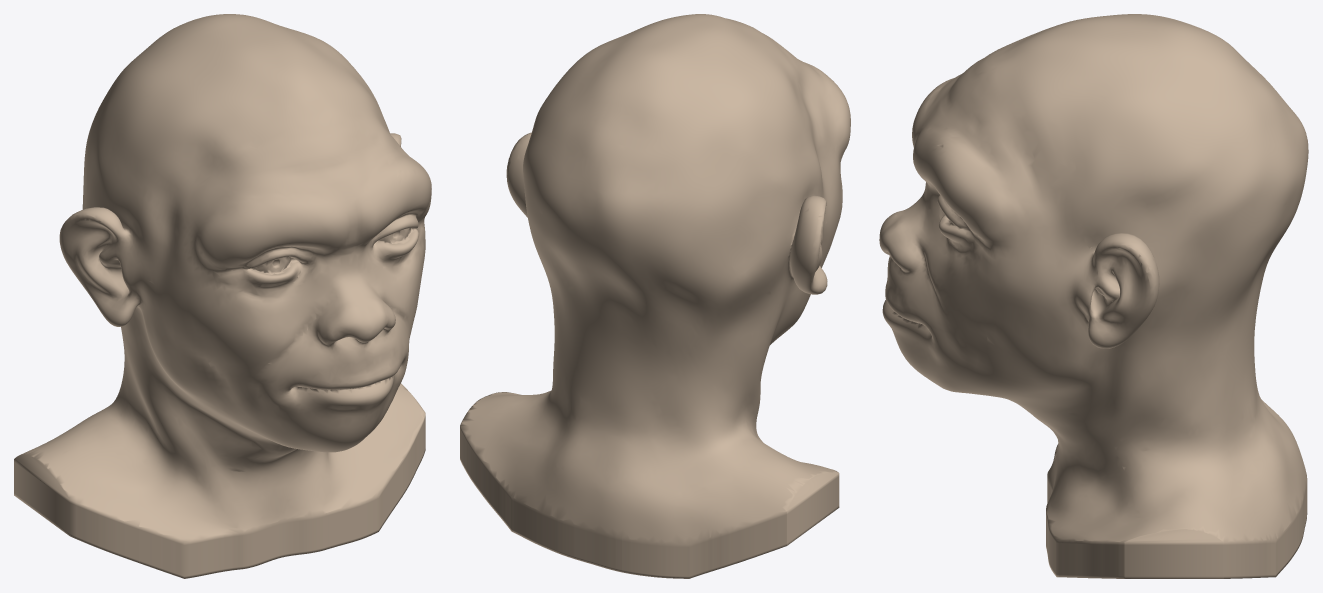
File: BustoHarbin.glb
3 renders of one model, left to right at view 1: azimuth 30°, elevation 25°; view 2: azimuth 150°, elevation 25°; view 3: azimuth 270°, elevation 25°, orthographic. The views are drawn at different scales.
Parts seen in each view (by area): view 1: Moraes_Harbin_2026_Museo; view 2: Moraes_Harbin_2026_Museo; view 3: Moraes_Harbin_2026_Museo.
Boxes of the visible parts, left/top/right/bottom form: Moraes_Harbin_2026_Museo: left=14, top=14, right=431, bottom=578; Moraes_Harbin_2026_Museo: left=460, top=14, right=850, bottom=578; Moraes_Harbin_2026_Museo: left=879, top=14, right=1308, bottom=578.
Size of the model in its own units: 0.2443 by 0.3256 by 0.2533.
